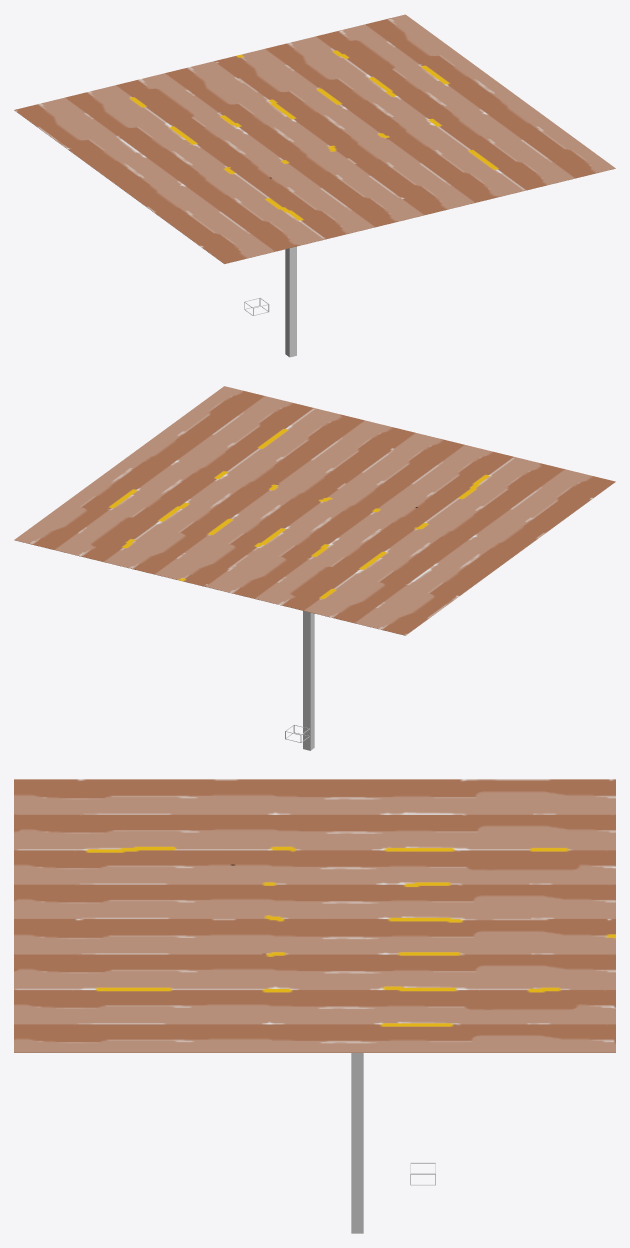
File: Kiosko.fbx
3 views of the same model, one above another, from view 1: azimuth 30°, elevation 25°; view 2: azimuth 150°, elevation 25°; view 3: azimuth 270°, elevation 25° (orthographic). The views are drawn at different scales.
Visible parts, largest first — view 1: cube_8, col_marco_1; view 2: cube_8, col_marco_1; view 3: cube_8, col_marco_1.
Part boxes in pixels (x1=…): cube_8: x1=14, y1=14, x2=615, y2=263; col_marco_1: x1=285, y1=246, x2=296, y2=357; cube_8: x1=14, y1=386, x2=615, y2=635; col_marco_1: x1=303, y1=611, x2=314, y2=750; cube_8: x1=14, y1=779, x2=615, y2=1052; col_marco_1: x1=351, y1=1053, x2=363, y2=1233.
Size of the model in its own units: 13300 by 7288 by 12375.
1 material, 1 textured.
